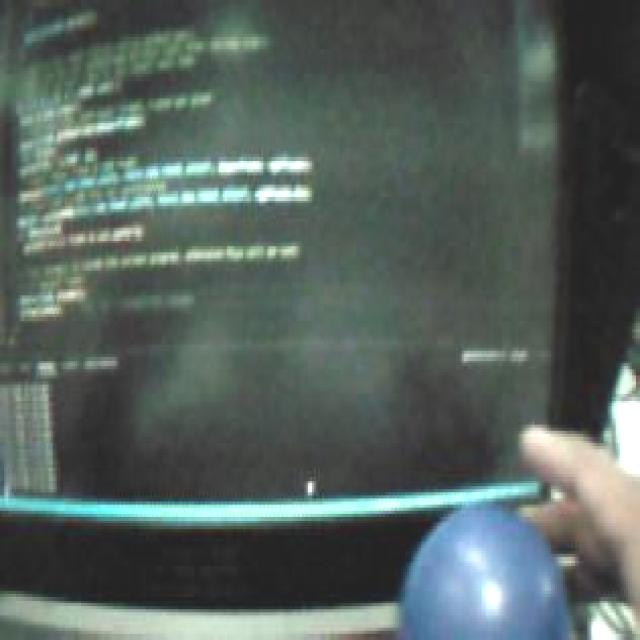BallPurple: (401, 503, 568, 640)
